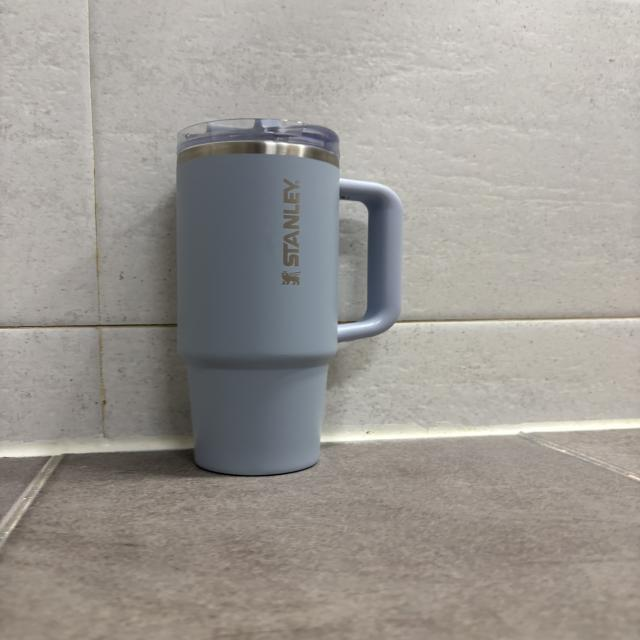waterbottle: (176, 119, 404, 476)
